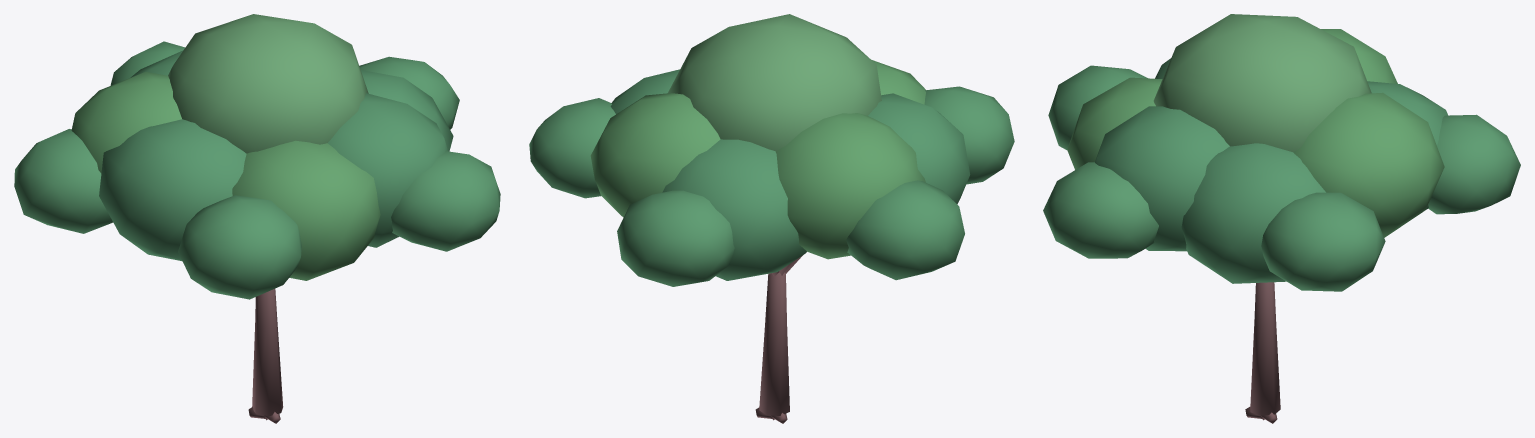
Rendered from oak.glb.
3 views of the same model, side by side, from view 1: azimuth 30°, elevation 25°; view 2: azimuth 150°, elevation 25°; view 3: azimuth 270°, elevation 25° (orthographic).
Visible parts, largest first — view 1: oak; view 2: oak; view 3: oak.
Boxes of the visible parts, box(x1,y1,x2,y2) form: oak: box(14, 14, 500, 423); oak: box(529, 14, 1014, 423); oak: box(1043, 14, 1520, 423).
Size of what is drawn, in the model's own units: 17.83 by 16 by 17.47.
